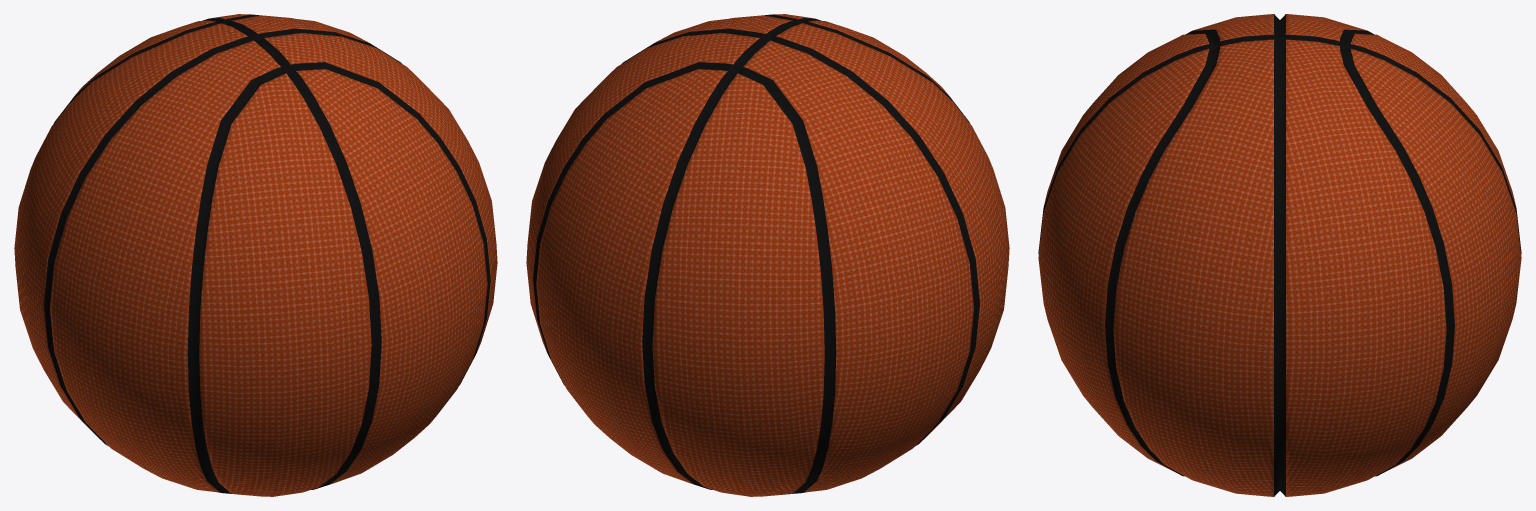
The model's file is basketball.glb.
3 renders of one model, left to right at view 1: azimuth 30°, elevation 25°; view 2: azimuth 150°, elevation 25°; view 3: azimuth 270°, elevation 25°, orthographic.
Parts seen in each view (by area): view 1: Cube_0; view 2: Cube_0; view 3: Cube_0.
Boxes of the visible parts, x1=… form: Cube_0: x1=14, y1=14, x2=497, y2=496; Cube_0: x1=526, y1=14, x2=1009, y2=496; Cube_0: x1=1038, y1=14, x2=1521, y2=496.
Bounding box in the file's own units: 1.64 × 1.63 × 1.64.
2 materials, 1 textured.
